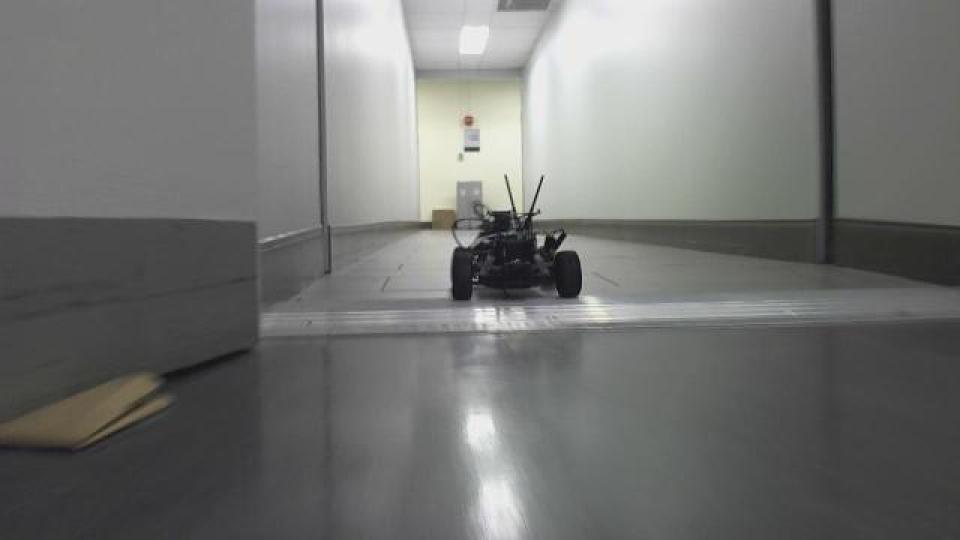car: (445, 171, 585, 305)
